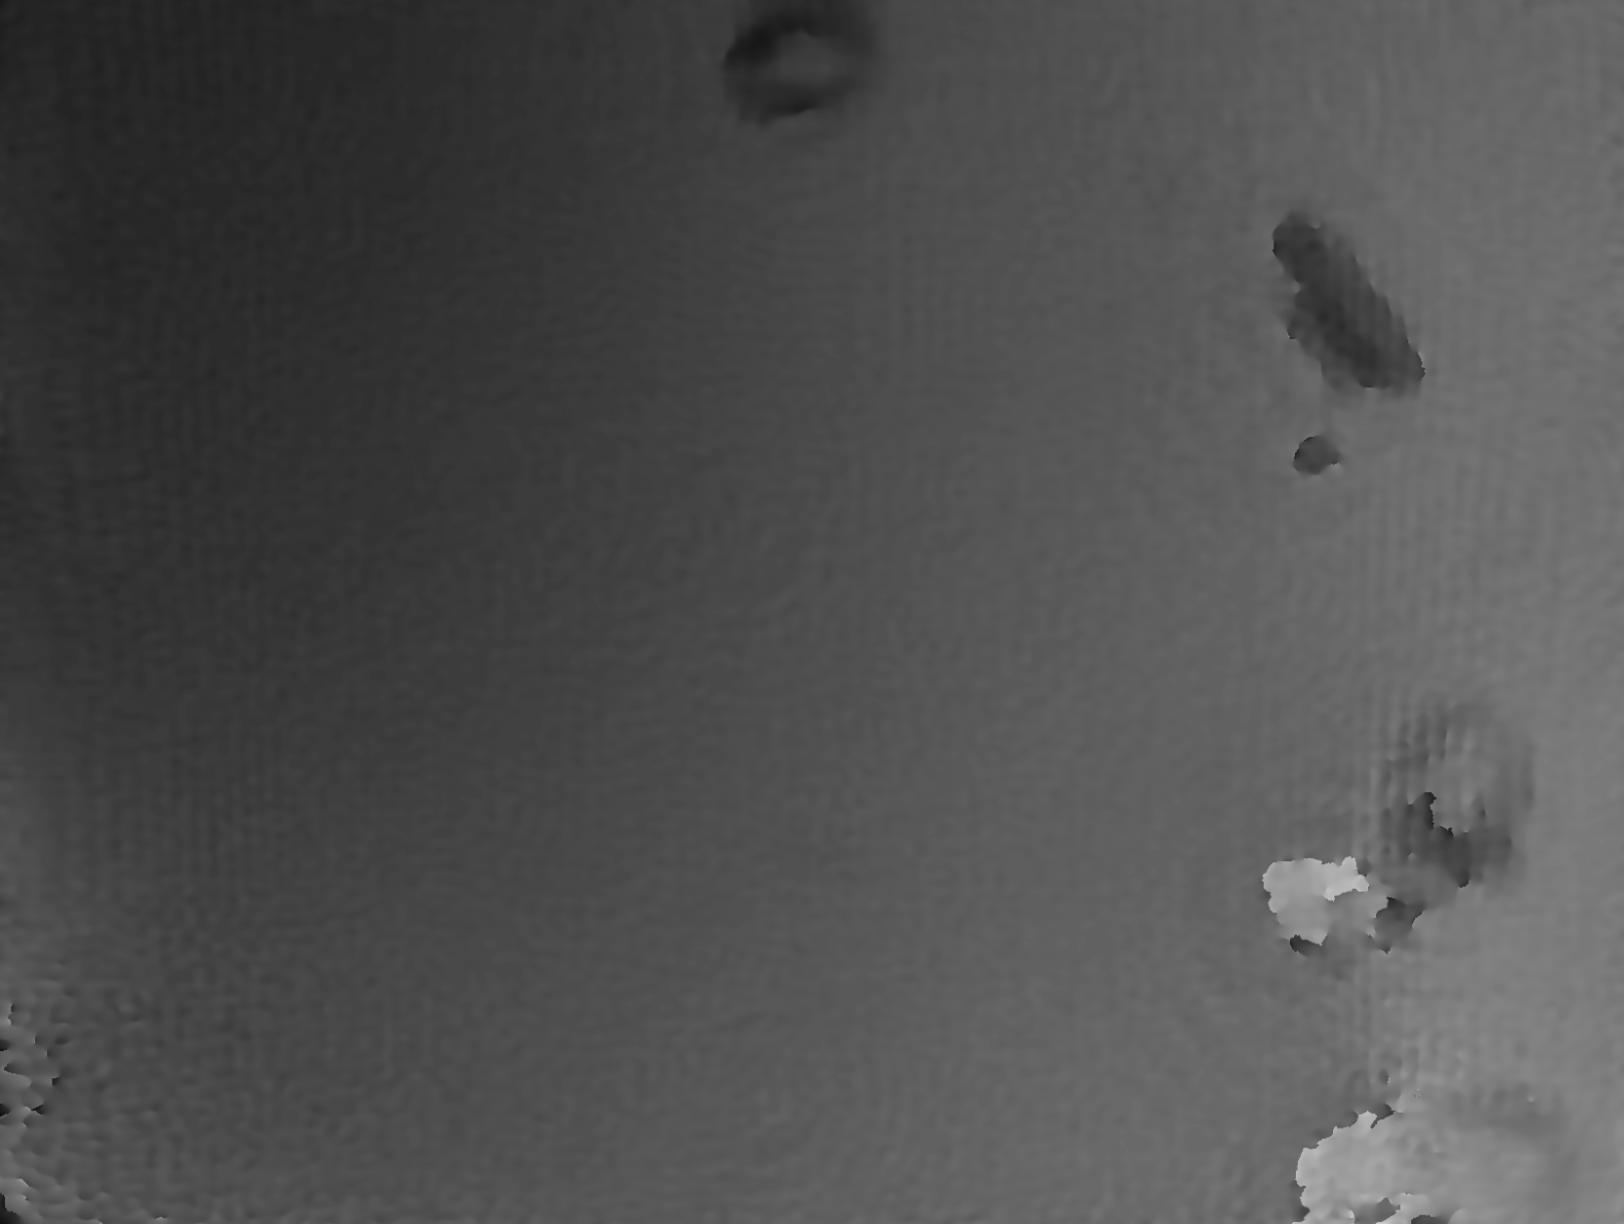cell: (1227, 162, 1480, 462), (1337, 634, 1582, 936), (674, 1, 934, 183)
